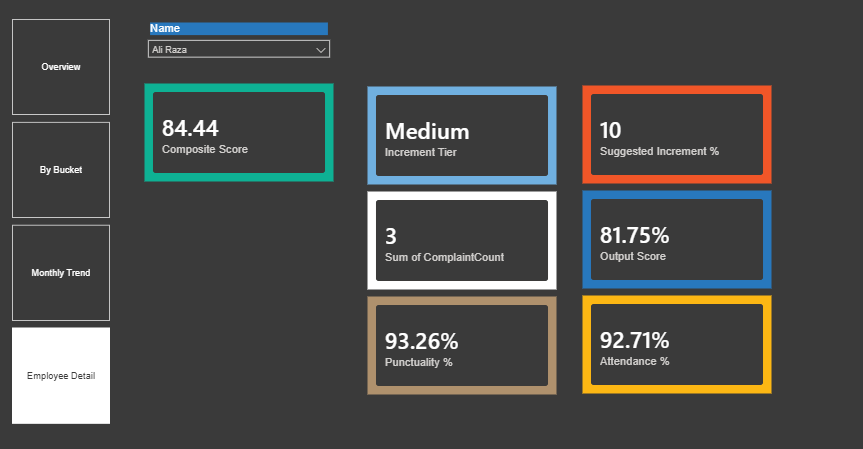

Layout of this report page (visuals, bound fields, positions):
{"tool":"powerbi","page":{"name":"Employee Detail ","canvas":[1280,720],"ordinal":3},"visuals":[{"type":"slicer","fields":{"Values":["Employees.Name"]},"box":[205,70,280,86.7],"z":0},{"type":"cardVisual","fields":{"Data":["Employees.Attendance %"]},"box":[831.4,460,280,150],"z":1000},{"type":"cardVisual","fields":{"Data":["Employees.Punctuality %"]},"box":[524.3,461.4,280,150],"z":2000},{"type":"cardVisual","fields":{"Data":["Sum(Complaints.ComplaintCount)"]},"box":[524.3,311.4,280,150],"z":3000},{"type":"cardVisual","fields":{"Data":["Employees.Output Score"]},"box":[831.4,310,280,150],"z":4000},{"type":"cardVisual","fields":{"Data":["Employees.Increment Tier"]},"box":[524.3,161.4,280,150],"z":5000},{"type":"cardVisual","fields":{"Data":["Employees.Suggested Increment %"]},"box":[831.4,160,280,150],"z":6000},{"type":"cardVisual","fields":{"Data":["Employees.Composite Score"]},"box":[205.7,157.1,280,150],"z":7000},{"type":"pageNavigator","box":[21.7,70,140,578.3],"z":8000}]}

Visuals, with their boxes on the page's 1280x720 design canvas (x1, y1, x2, y2). These are canvas units, not pixel positions in the 863x449 screenshot, which may show the page scaled, cropped or inside an application window:
slicer - Employees.Name: crop(205, 70, 485, 157)
cardVisual - Employees.Attendance %: crop(831, 460, 1111, 610)
cardVisual - Employees.Punctuality %: crop(524, 461, 804, 611)
cardVisual - Sum(Complaints.ComplaintCount): crop(524, 311, 804, 461)
cardVisual - Employees.Output Score: crop(831, 310, 1111, 460)
cardVisual - Employees.Increment Tier: crop(524, 161, 804, 311)
cardVisual - Employees.Suggested Increment %: crop(831, 160, 1111, 310)
cardVisual - Employees.Composite Score: crop(206, 157, 486, 307)
pageNavigator: crop(22, 70, 162, 648)
